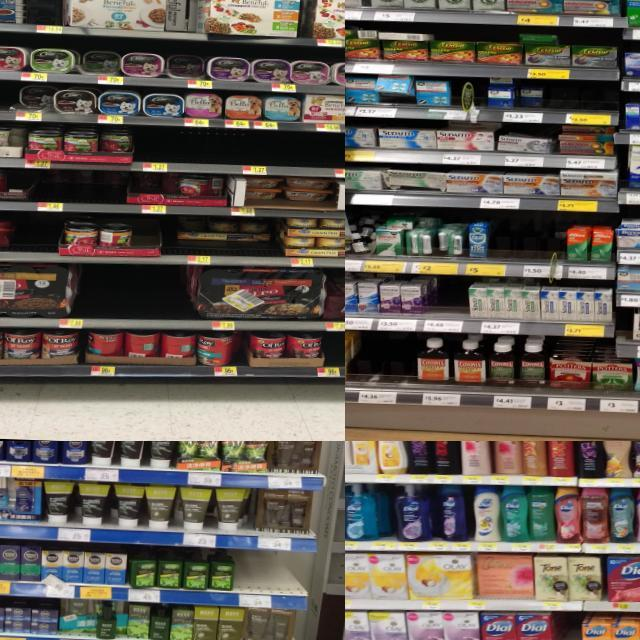empty: (78, 262, 178, 329), (135, 126, 241, 174), (242, 130, 334, 177), (358, 331, 417, 404), (35, 172, 124, 213), (512, 214, 566, 278), (234, 550, 292, 607), (552, 80, 620, 126), (12, 215, 58, 262), (436, 276, 469, 334), (448, 76, 488, 120), (490, 212, 512, 276), (30, 0, 65, 34), (324, 335, 345, 376), (557, 613, 580, 640), (0, 80, 8, 120)
